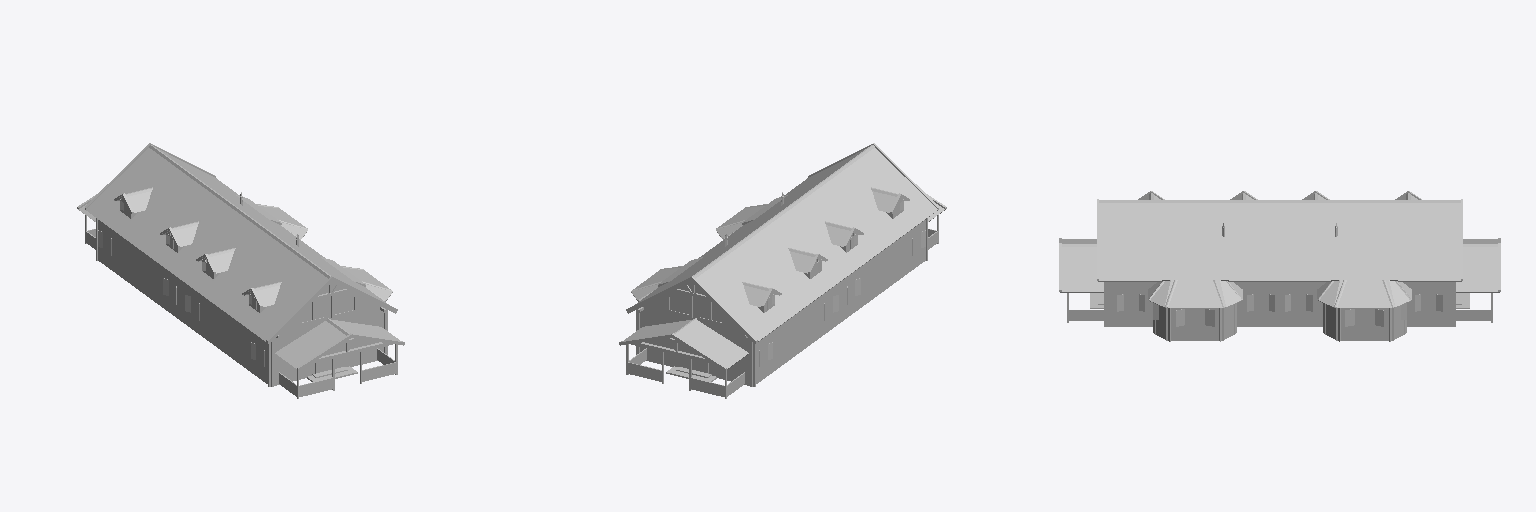
The model's file is house.triangulated.obj.
The picture shows the model from 3 angles: view 1: azimuth 30°, elevation 25°; view 2: azimuth 150°, elevation 25°; view 3: azimuth 270°, elevation 25°; orthographic projection.
Parts seen in each view (by area): view 1: City_building_014_Untitled.028; view 2: City_building_014_Untitled.028; view 3: City_building_014_Untitled.028.
Boxes of the visible parts, x1=… form: City_building_014_Untitled.028: x1=77, y1=143, x2=404, y2=398; City_building_014_Untitled.028: x1=619, y1=143, x2=946, y2=398; City_building_014_Untitled.028: x1=1059, y1=191, x2=1500, y2=341.
Bounding box in the file's own units: 9.91 × 5.91 × 23.79.